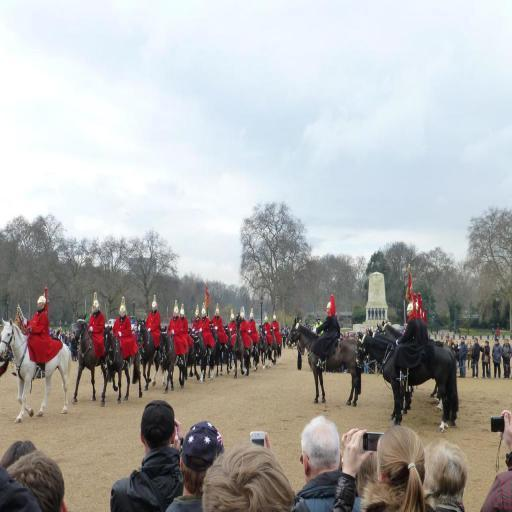horse: (71, 311, 282, 405), (354, 320, 458, 434), (0, 317, 72, 423), (284, 316, 362, 408)
